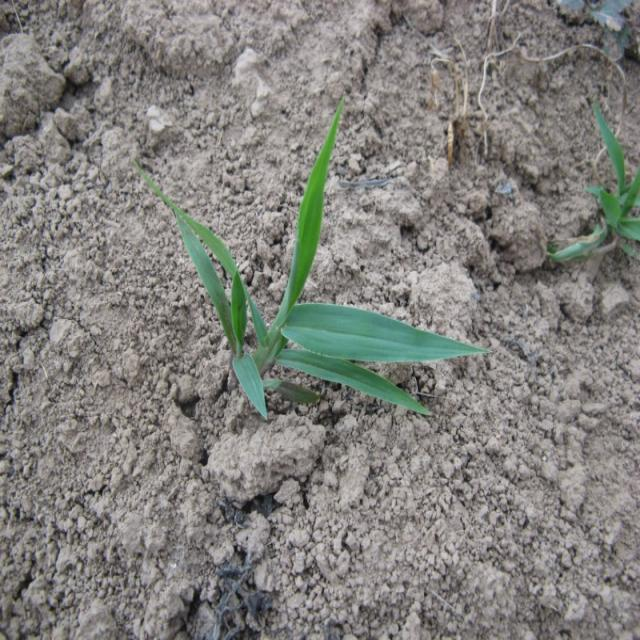bg: (148, 99, 496, 426)
